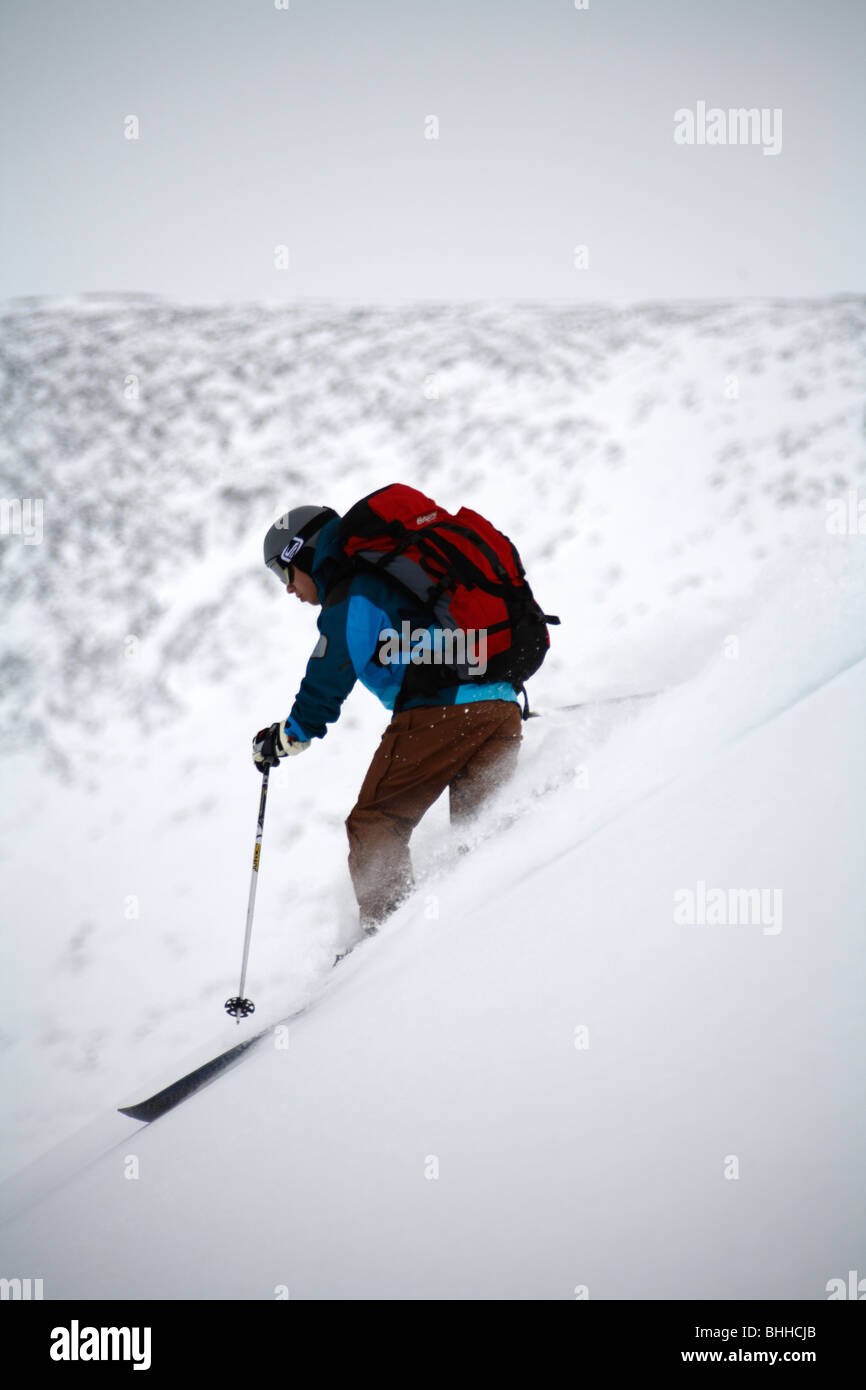skier: (94, 304, 572, 1163)
